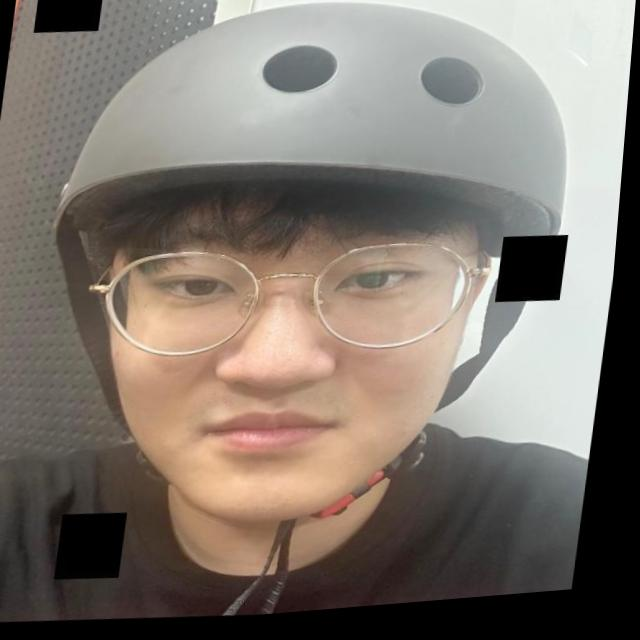helmet: (9, 0, 594, 637)
